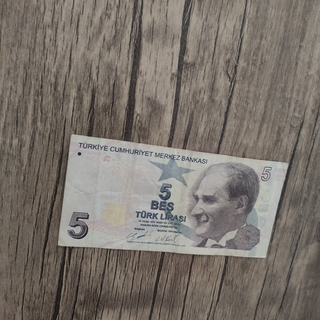5TLFront: (57, 133, 289, 258)
